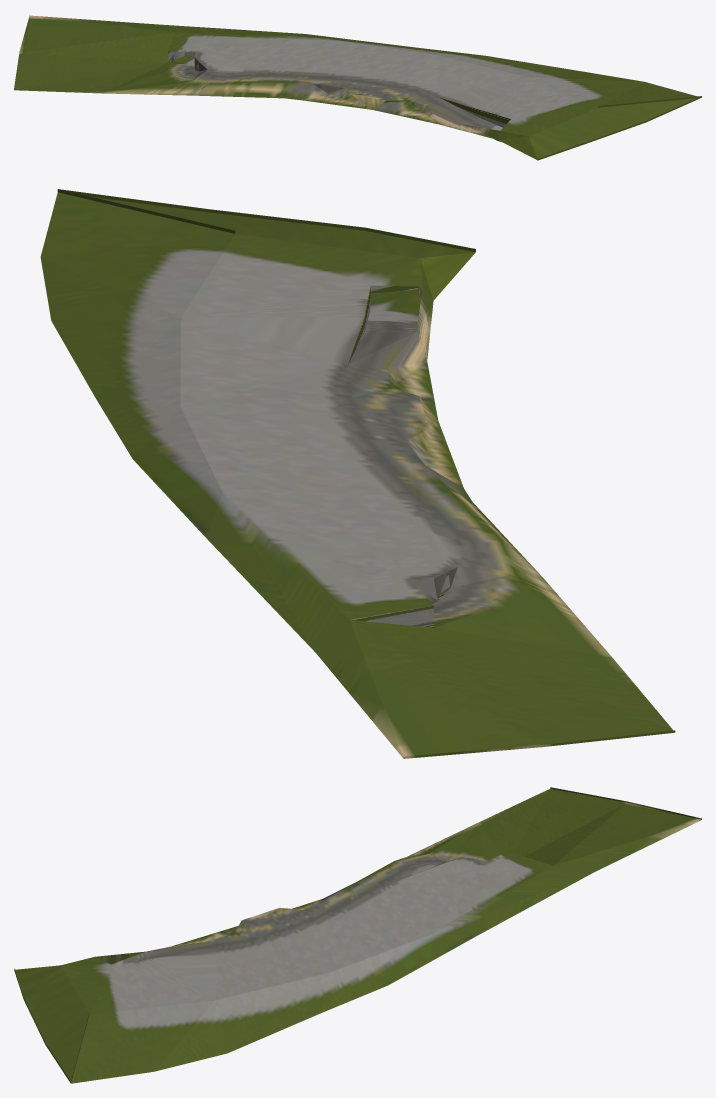
The model's file is lodtury02_law2.obj.
3 renders of one model, top to bottom at view 1: azimuth 30°, elevation 25°; view 2: azimuth 150°, elevation 25°; view 3: azimuth 270°, elevation 25°, orthographic. The views are drawn at different scales.
Visible parts, largest first — view 1: LODtury02_LAw2; view 2: LODtury02_LAw2; view 3: LODtury02_LAw2.
Part boxes in pixels (x1,y1,x2,y2): LODtury02_LAw2: [14, 15, 701, 160]; LODtury02_LAw2: [40, 189, 675, 758]; LODtury02_LAw2: [14, 787, 701, 1083].
Size of the model in its own units: 159 by 5.93 by 150.
1 material, 1 textured.
